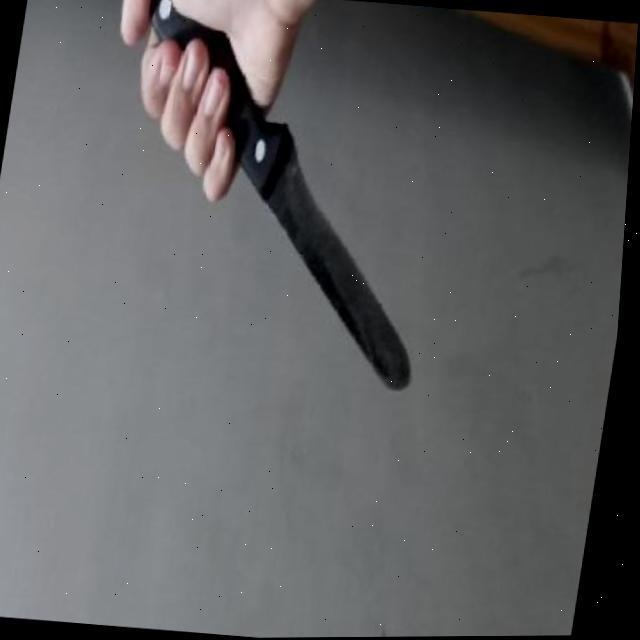knife: (100, 0, 467, 391)
